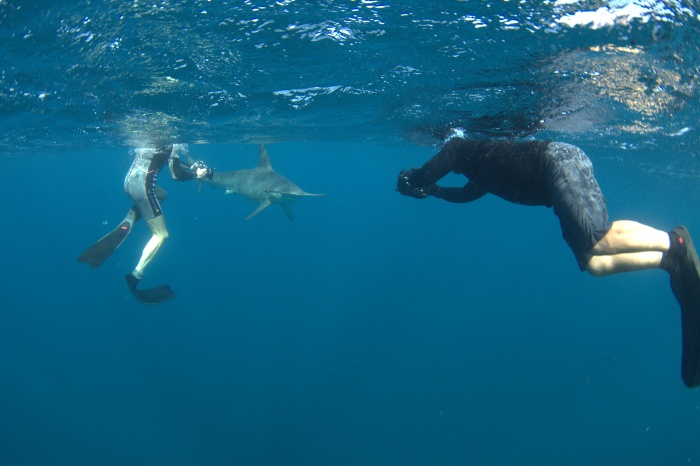Hammer: (205, 127, 327, 238)
